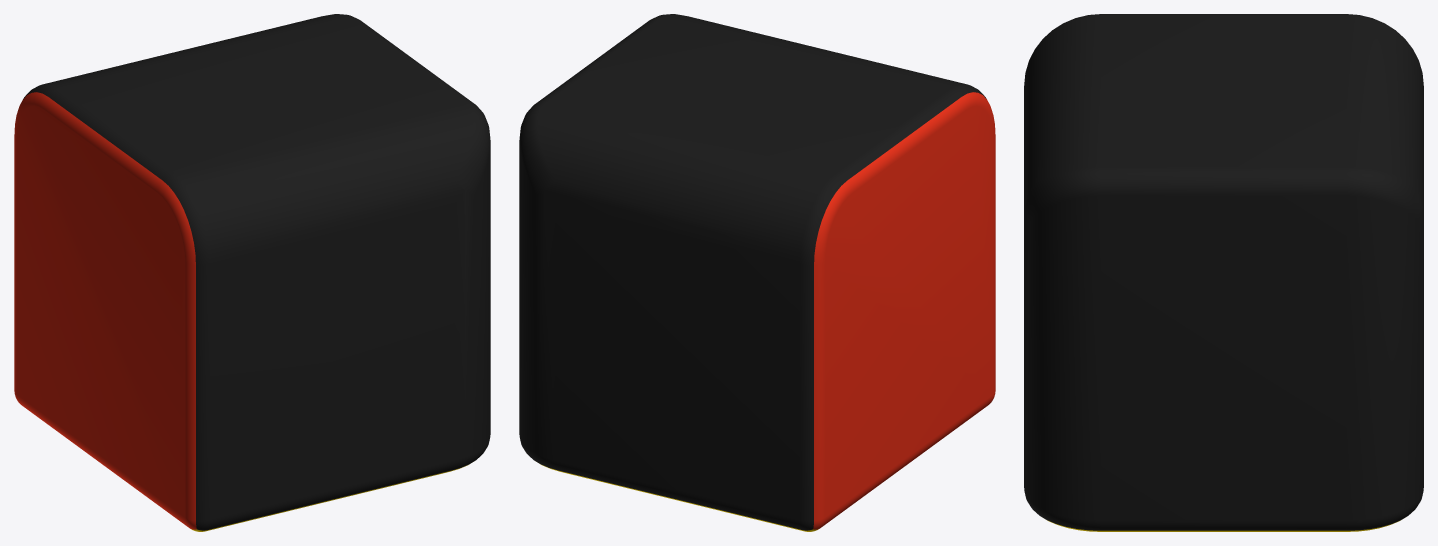
File: yr_edge.glb
The picture shows the model from 3 angles, left to right: view 1: azimuth 30°, elevation 25°; view 2: azimuth 150°, elevation 25°; view 3: azimuth 270°, elevation 25°; orthographic projection. The views are drawn at different scales.
Visible parts, largest first — view 1: Cube.022; view 2: Cube.022; view 3: Cube.022.
Part boxes in pixels (x1,y1,x2,y2): Cube.022: (14,14,490,531); Cube.022: (519,14,995,531); Cube.022: (1024,14,1423,531).
Size of the model in its own units: 2 by 2 by 2.
